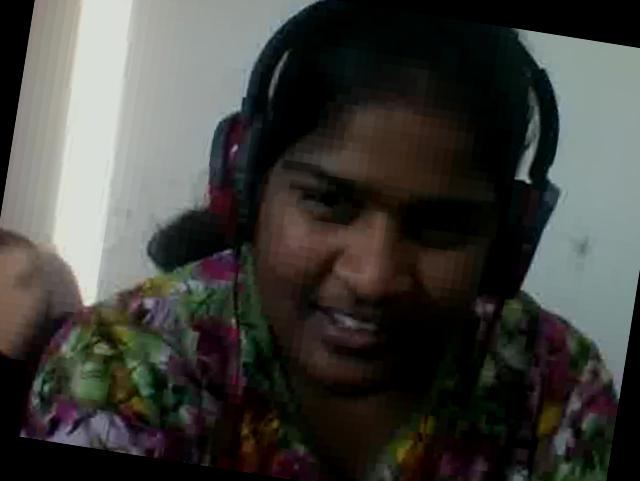bingung: (244, 84, 520, 414)
